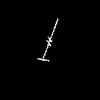treble_crochet: (38, 19, 57, 60)
